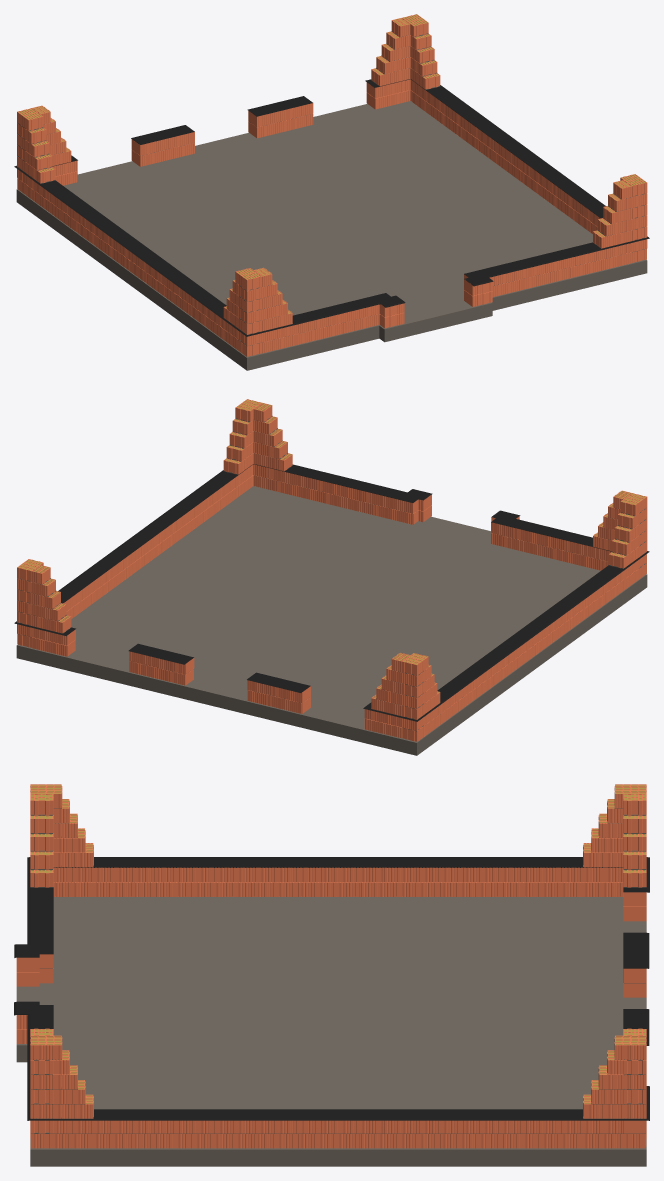
The model's file is Haus_Wand_unten.fbx.
The picture shows the model from 3 angles, top to bottom: view 1: azimuth 30°, elevation 25°; view 2: azimuth 150°, elevation 25°; view 3: azimuth 270°, elevation 25°; orthographic projection. The views are drawn at different scales.
Parts seen in each view (by area): view 1: Wand Unten; view 2: Wand Unten; view 3: Wand Unten.
Part boxes in pixels (x1,y1,x2,y2): Wand Unten: [14, 31, 649, 370]; Wand Unten: [14, 416, 649, 755]; Wand Unten: [14, 806, 649, 1166].
Bounding box in the file's own units: 981 × 211 × 1001.
